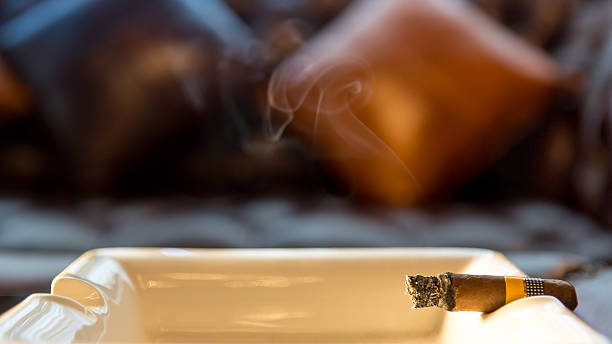cigarette: (403, 266, 578, 311)
